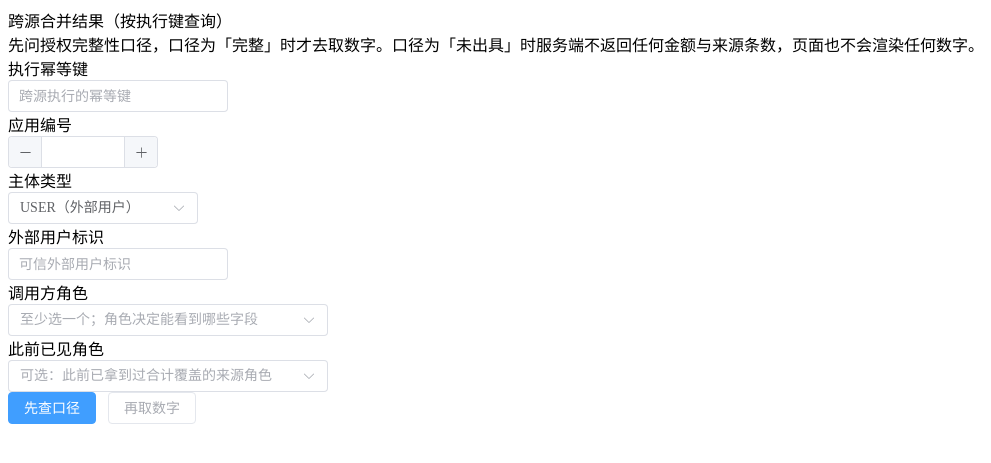
Test case: 跨源合并结果页（V07） › 角色为空时在页面侧就拦下，不把注定被拒的请求发出去
Step 1. Type "xs-merge-aaa" into the field labelled "执行幂等键" → (118, 96), box [19,81,217,111]
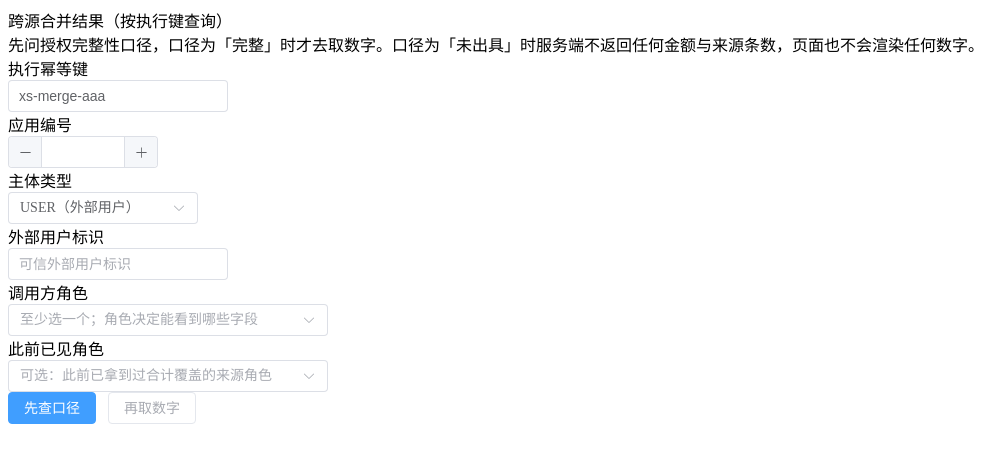
Step 2. Type "42" into the number field labelled "应用编号" → (83, 152), box [50,137,116,167]
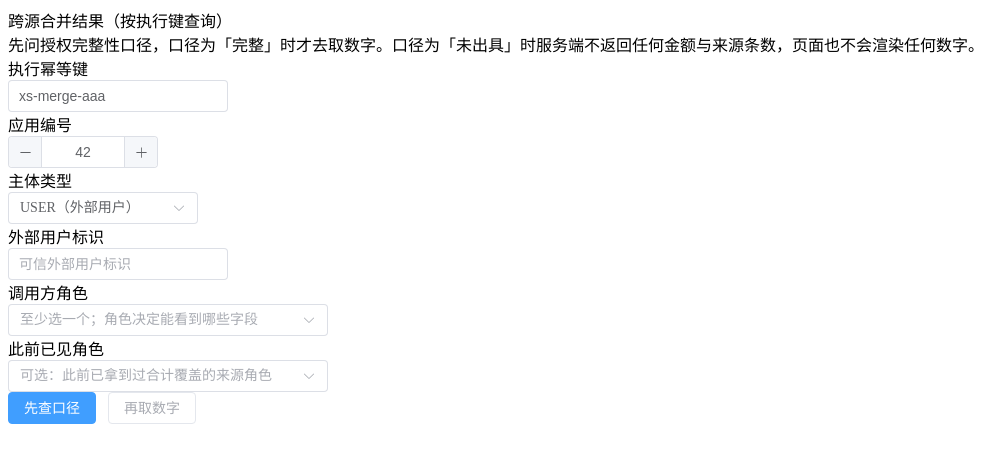
Step 3. Type "user-1" into the field labelled "外部用户标识" → (118, 264), box [19,249,217,279]
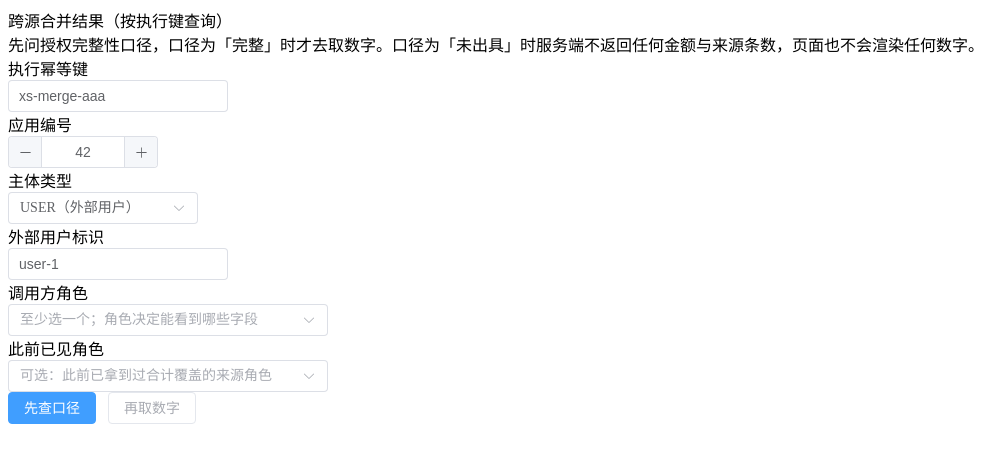
Step 4. Click the button with test id "ai-cross-source-probe" → (52, 408), box [8,392,96,424]
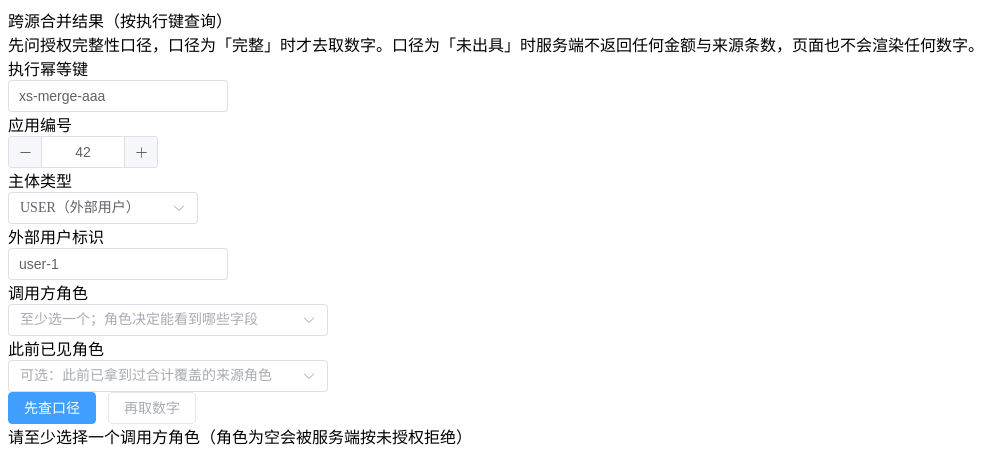
Now the element with test id "ai-cross-source-form-error" shows "至少选择一个调用方角色", box [8,429,472,446]
